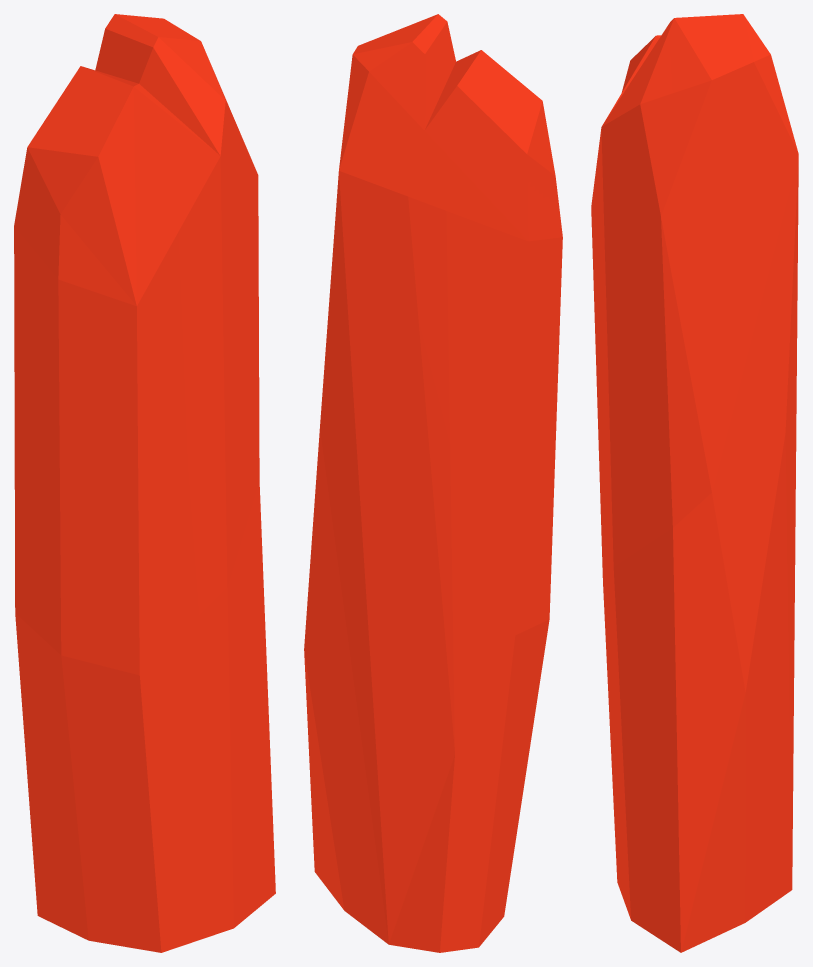
The model's file is mining_PP_Crystal_Single_02_Red.gltf.
3 renders of one model, left to right at view 1: azimuth 30°, elevation 25°; view 2: azimuth 150°, elevation 25°; view 3: azimuth 270°, elevation 25°, orthographic.
Visible parts, largest first — view 1: PP_Crystal_Single_02_Red; view 2: PP_Crystal_Single_02_Red; view 3: PP_Crystal_Single_02_Red.
Boxes of the visible parts, x1,y1,x2,y2 form: PP_Crystal_Single_02_Red: (14, 14, 275, 952); PP_Crystal_Single_02_Red: (304, 14, 562, 952); PP_Crystal_Single_02_Red: (591, 14, 798, 952).
Bounding box in the file's own units: 0.2158 × 0.7694 × 0.1651.
1 material, 1 textured.
